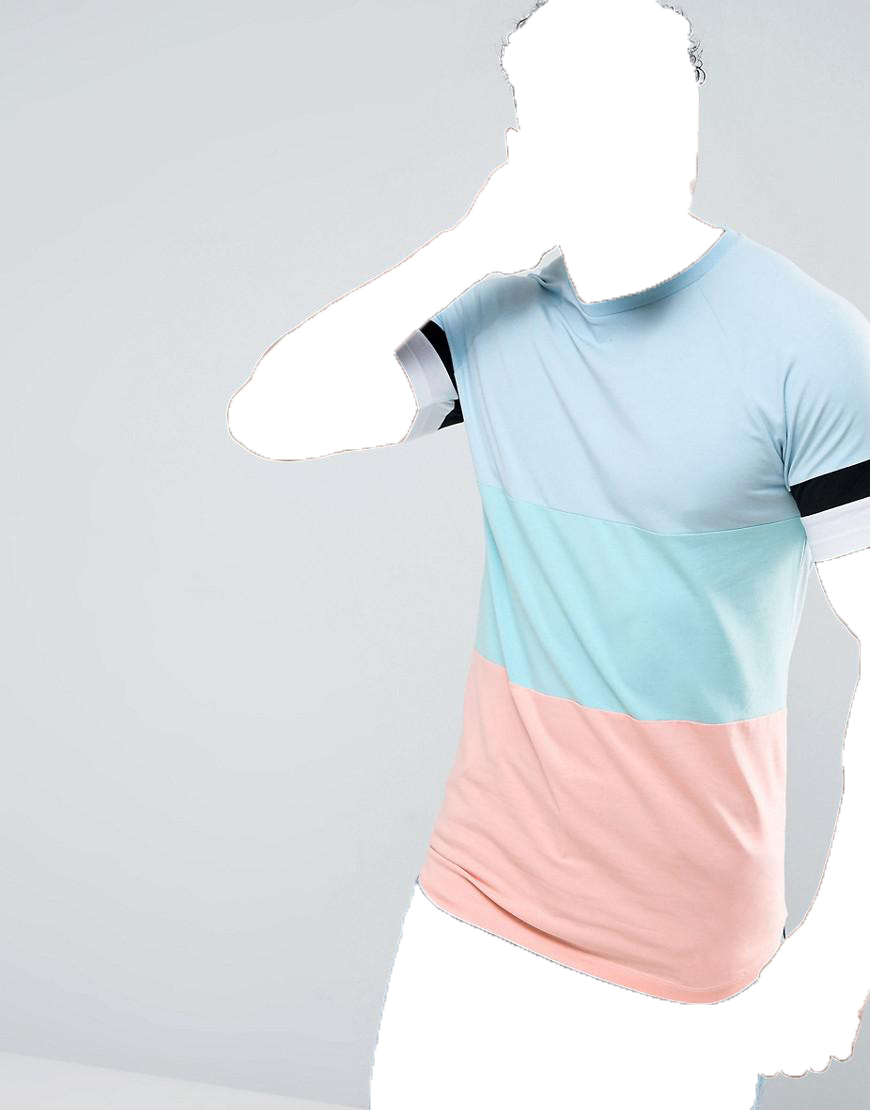teeshirt: (376, 220, 870, 1001)
